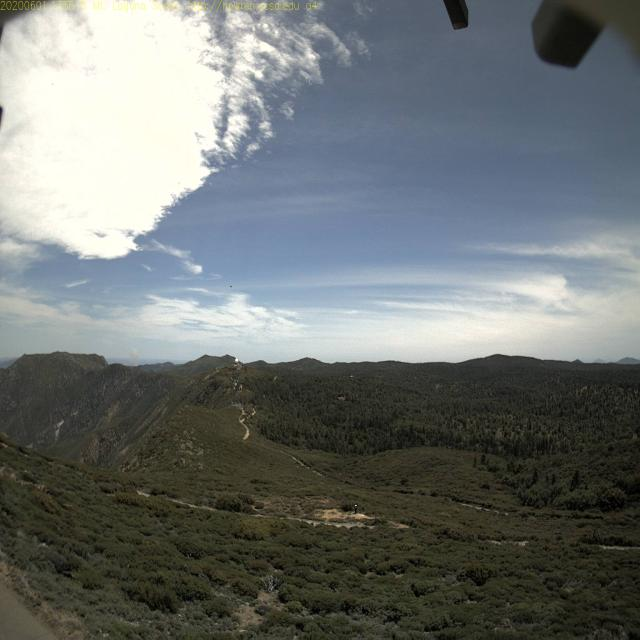smoke: (124, 346, 140, 366)
